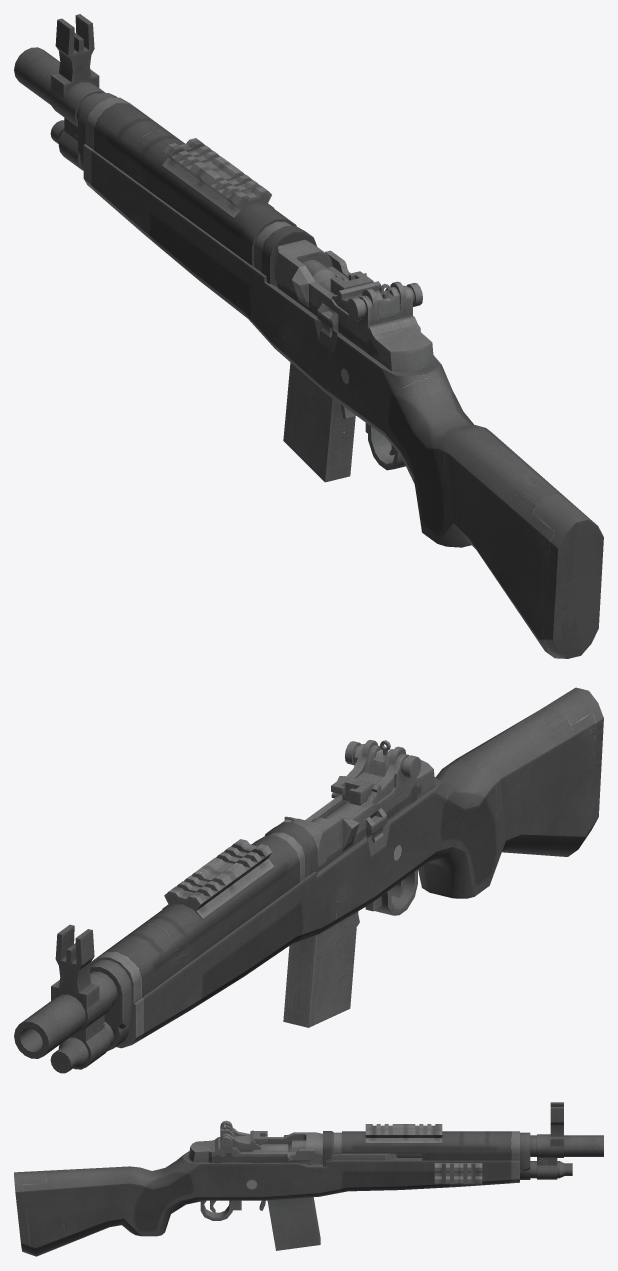
The model's file is IG_Gun_M1A.fbx.
The picture shows the model from 3 angles, top to bottom: view 1: azimuth 30°, elevation 25°; view 2: azimuth 150°, elevation 25°; view 3: azimuth 270°, elevation 25°; orthographic projection. The views are drawn at different scales.
Visible parts, largest first — view 1: WPN_M1A; view 2: WPN_M1A; view 3: WPN_M1A, ShowIf_Tec.
Part boxes in pixels (x1,y1,x2,y2): WPN_M1A: (14,14,603,658); WPN_M1A: (14,687,603,1073); WPN_M1A: (14,1102,603,1256); ShowIf_Tec: (434,1163,482,1184).
Size of the model in its own units: 0.1085 by 0.3861 by 1.38.
